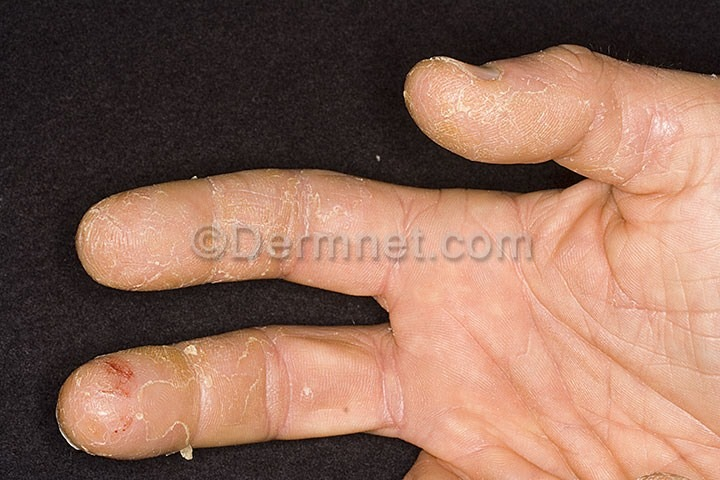Psoriasis: (93, 173, 359, 290), (65, 328, 292, 447), (403, 49, 608, 166)
